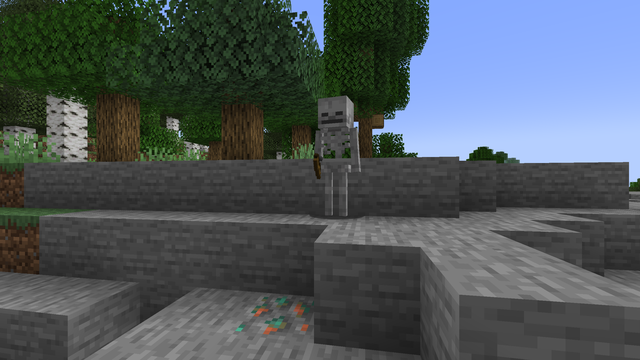squelettes: (316, 95, 353, 217)
